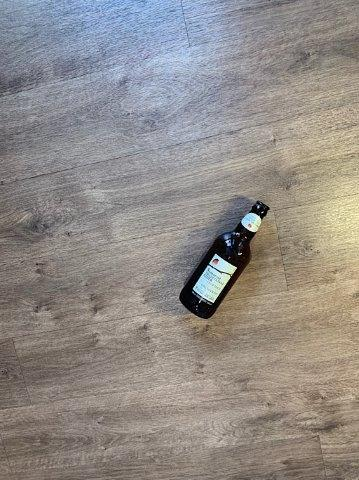botolkaca: (180, 202, 270, 318)
